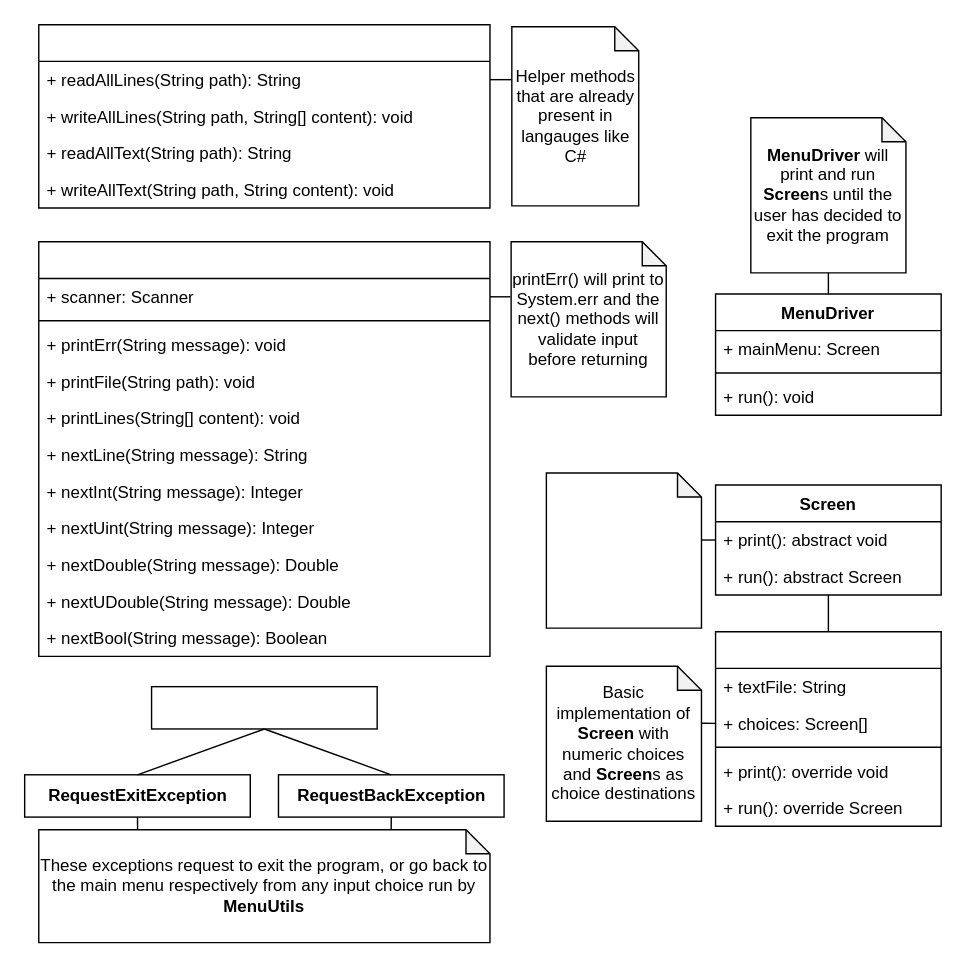
The diagram is 966 pixels wide and 967 high, and some of its shapes have lost their labels. Here are the shapes that lost their labels. From the top down, the box of each, then its label:
(37, 23, 490, 208): FileUtils
(37, 240, 490, 656): MenuUtils
(545, 472, 701, 628): Abstract class for implementing a MenuDriver console interface
(150, 685, 377, 729): Exception
(714, 630, 941, 826): Menu
